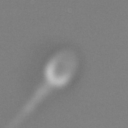normal: (3, 83, 52, 128)
